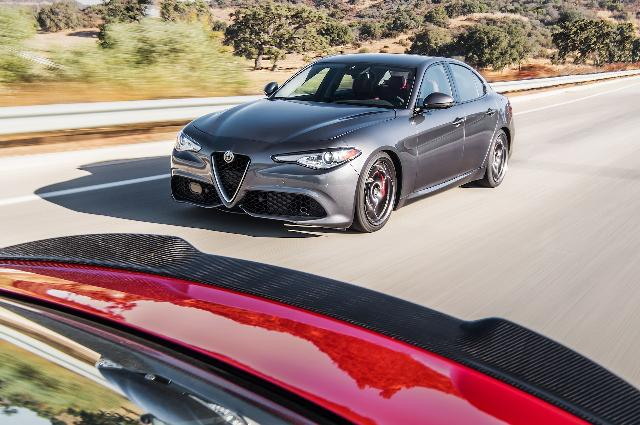alpha-romeo: (168, 52, 516, 235)
